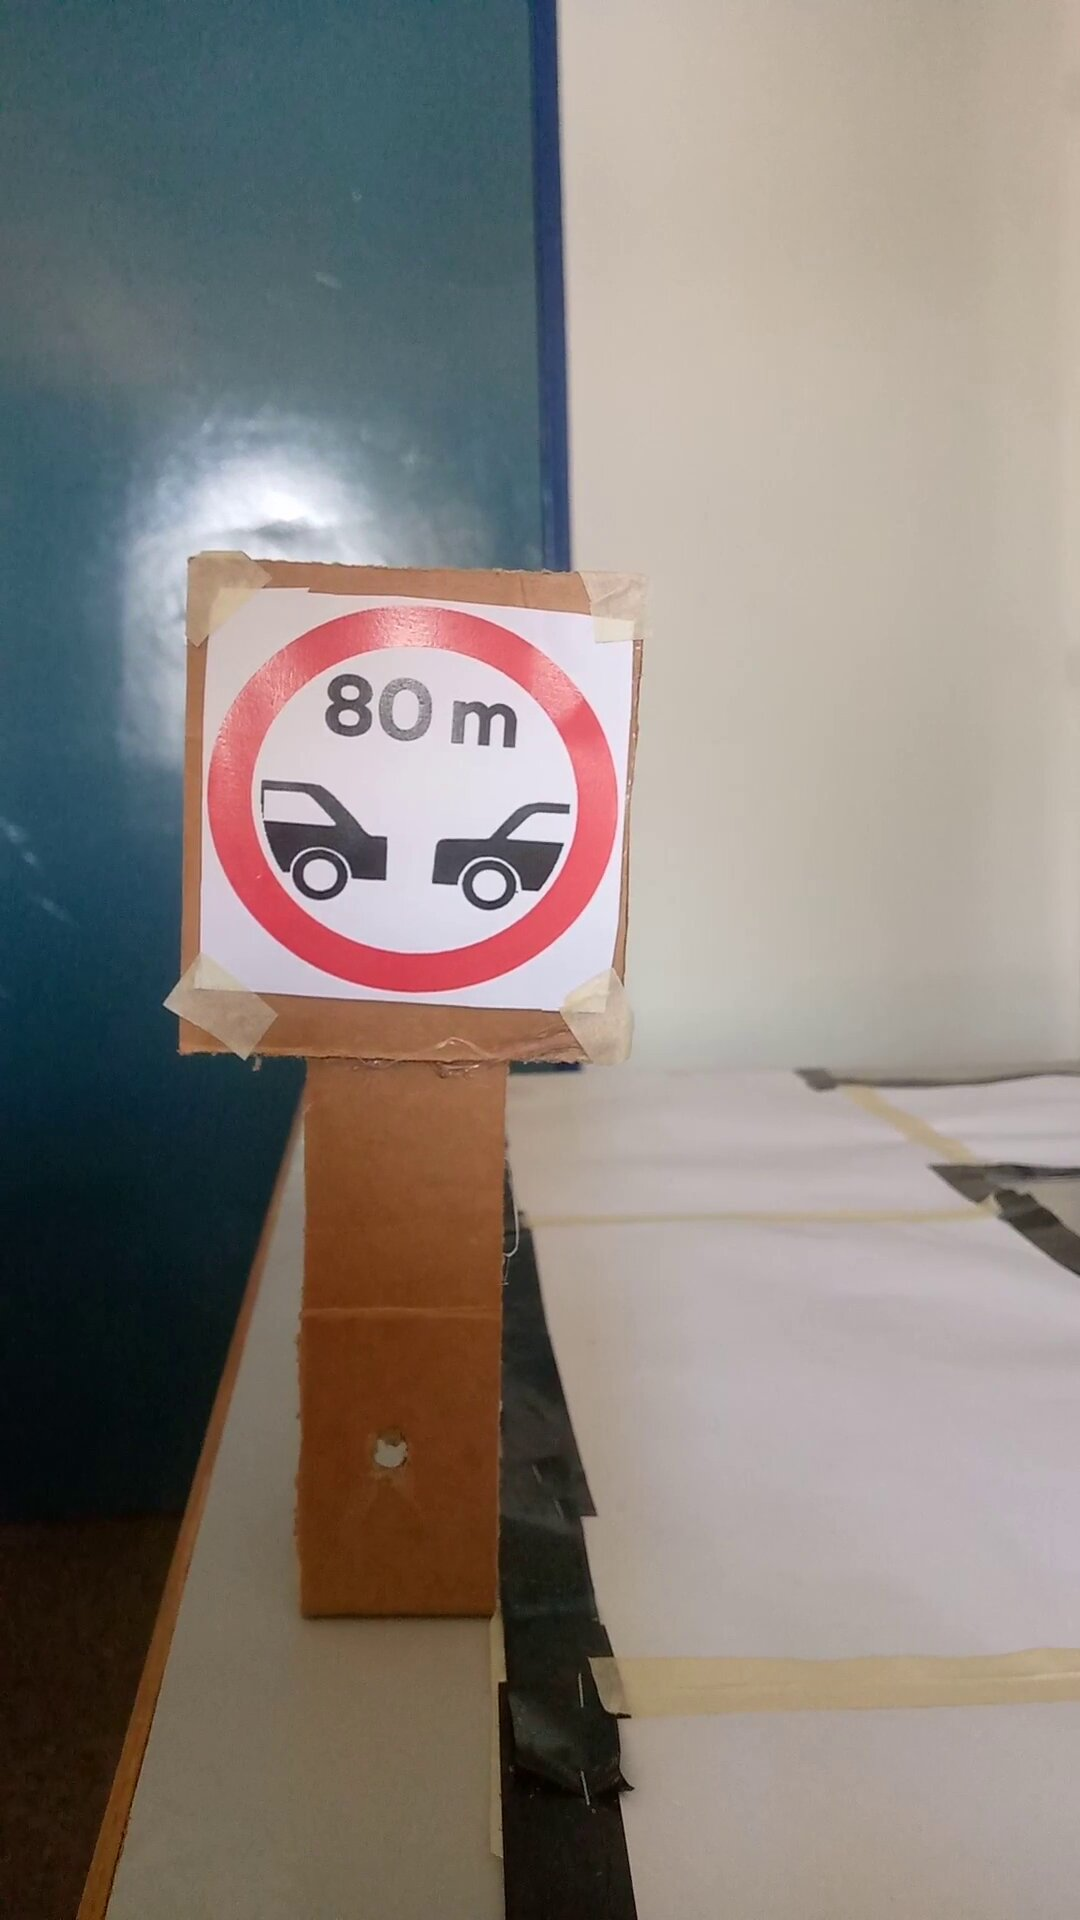panel001: (190, 554, 647, 1069)
